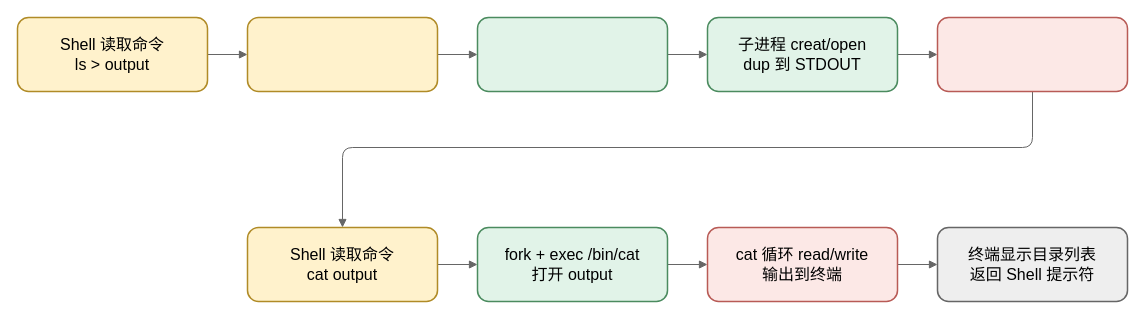
The diagram is 1146 pixels wide and 320 high, and some of its shapes have lost their labels. Each missing label, with the centre of its shape:
"exec /bin/ls 目录项写入 fd 1" goes at (x=1032, y=54).
"fork 子进程 父进程 wait" goes at (x=572, y=54).
"解析重定向 目标文件 output" goes at (x=342, y=54).
